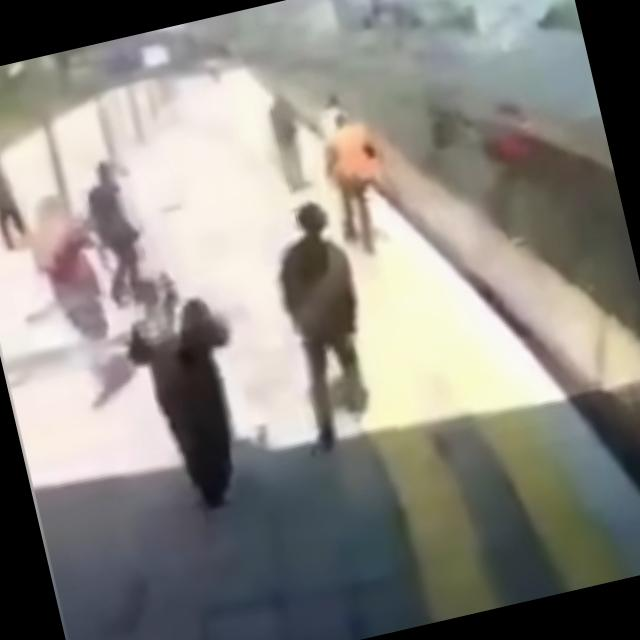person: (108, 258, 269, 520), (258, 195, 391, 455), (17, 186, 130, 398), (310, 94, 399, 258), (75, 156, 158, 312), (260, 84, 326, 194), (0, 143, 31, 254)
